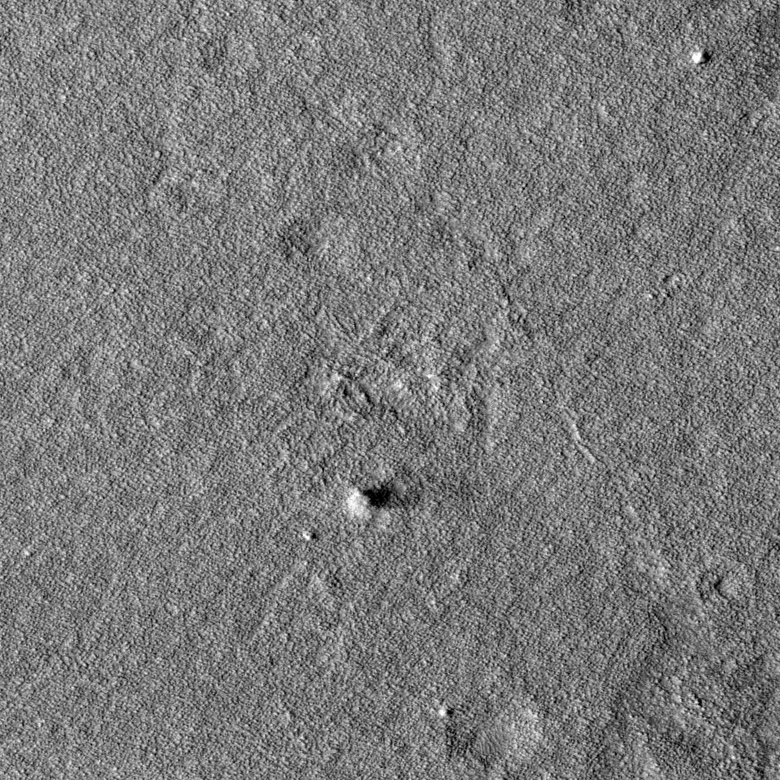dust_devil: (345, 480, 420, 522)
